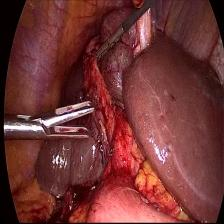Grasper: (7, 96, 98, 152), (90, 22, 124, 64)
